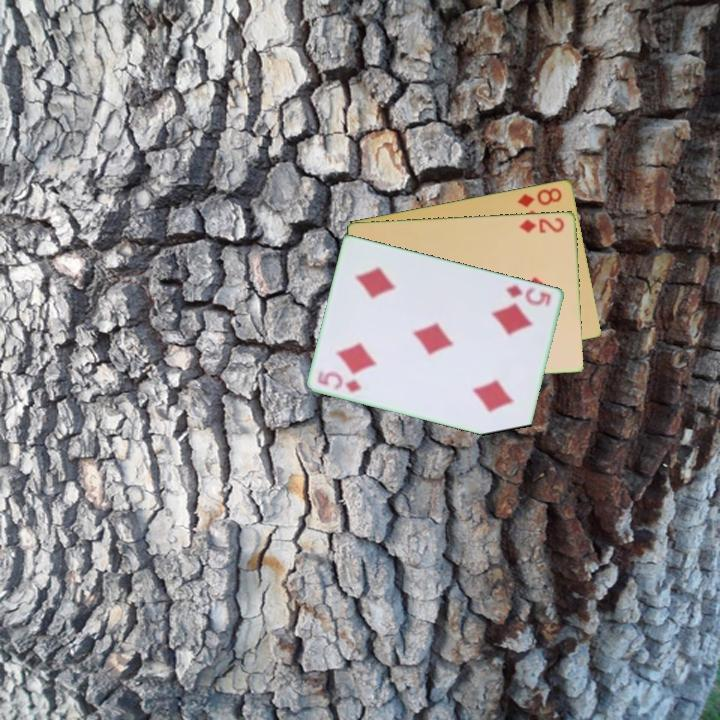2d: (516, 214, 567, 236)
5d: (503, 281, 554, 310), (314, 366, 365, 394)
8d: (514, 184, 565, 210)
